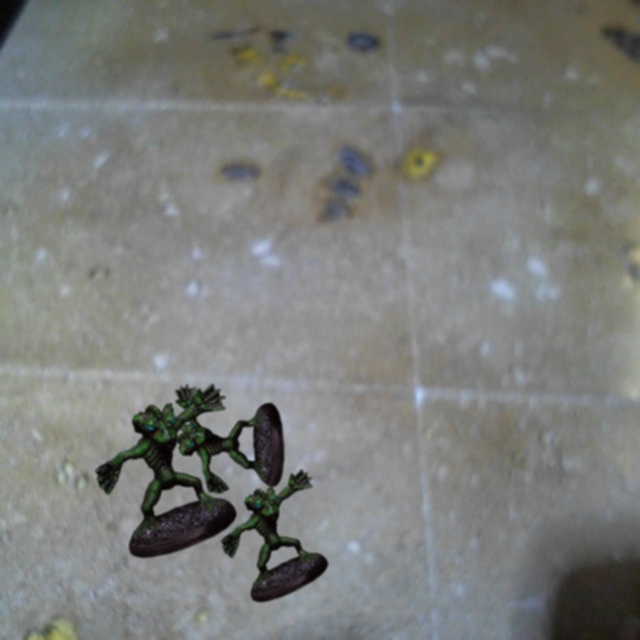pieza_juego: (95, 384, 236, 557), (221, 469, 327, 601), (175, 384, 284, 493)
